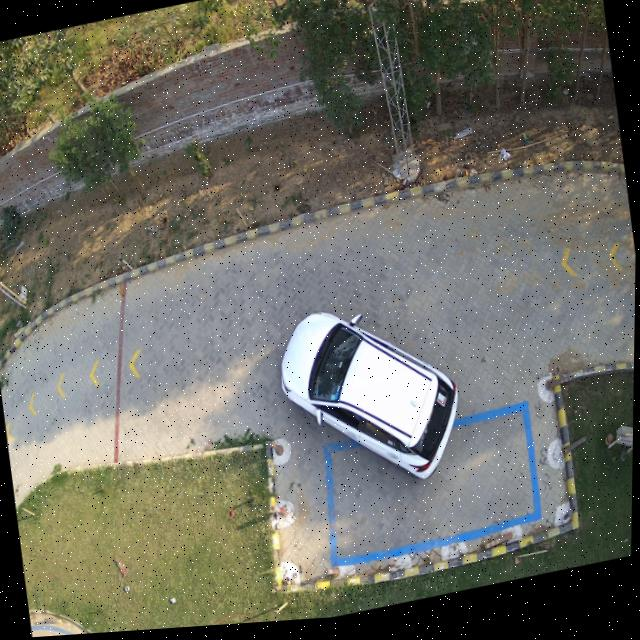car: (282, 316, 461, 486)
